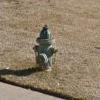Hydrant: (25, 17, 62, 72)
